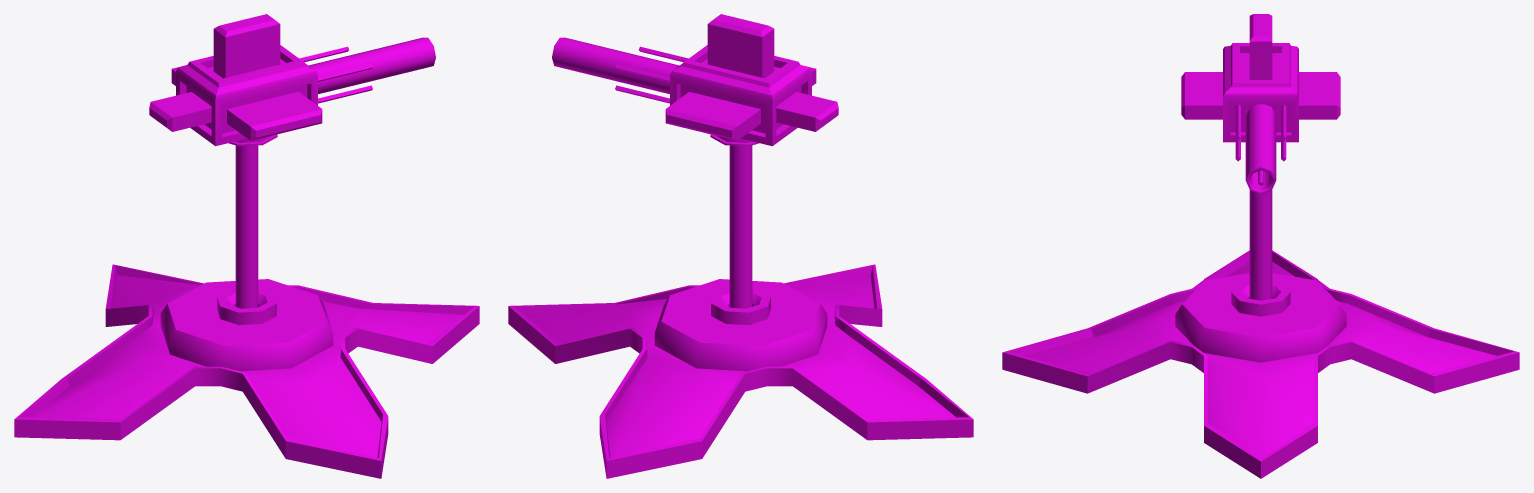
The model's file is newturret1.fbx.
3 views of the same model, side by side, from view 1: azimuth 30°, elevation 25°; view 2: azimuth 150°, elevation 25°; view 3: azimuth 270°, elevation 25° (orthographic). The views are drawn at different scales.
Visible parts, largest first — view 1: Turret_stand, Turret_gun; view 2: Turret_stand, Turret_gun; view 3: Turret_stand, Turret_gun.
Boxes of the visible parts, <box> form: Turret_stand: <box>14,264,479,478</box>; Turret_gun: <box>149,14,435,308</box>; Turret_stand: <box>508,264,973,478</box>; Turret_gun: <box>552,14,838,308</box>; Turret_stand: <box>1002,250,1519,478</box>; Turret_gun: <box>1181,14,1340,300</box>.
Bounding box in the file's own units: 1.36 × 1 × 1.36.
